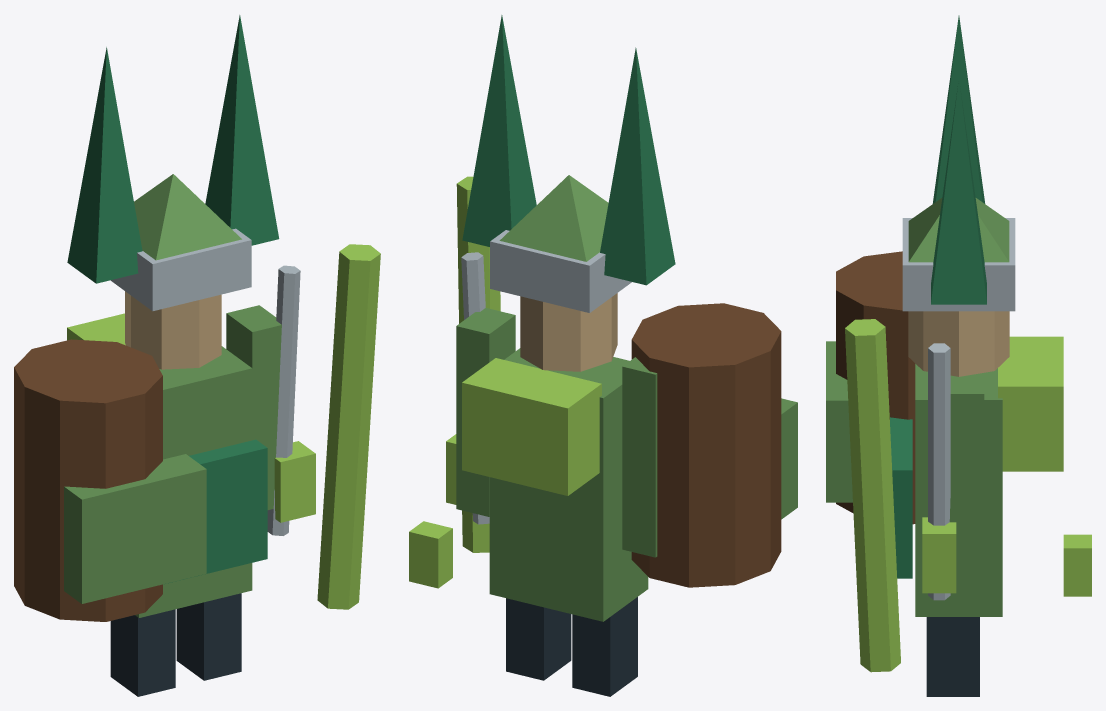
File: swordsman.obj
The picture shows the model from 3 angles, left to right: view 1: azimuth 30°, elevation 25°; view 2: azimuth 150°, elevation 25°; view 3: azimuth 270°, elevation 25°; orthographic projection. The views are drawn at different scales.
Visible parts, largest first — view 1: infantry; view 2: infantry; view 3: infantry.
Part boxes in pixels (x1,y1,x2,y2): infantry: (14,15,380,696); infantry: (409,15,797,696); infantry: (826,15,1091,696).
Bounding box in the file's own units: 1.19 × 2.21 × 0.85.
